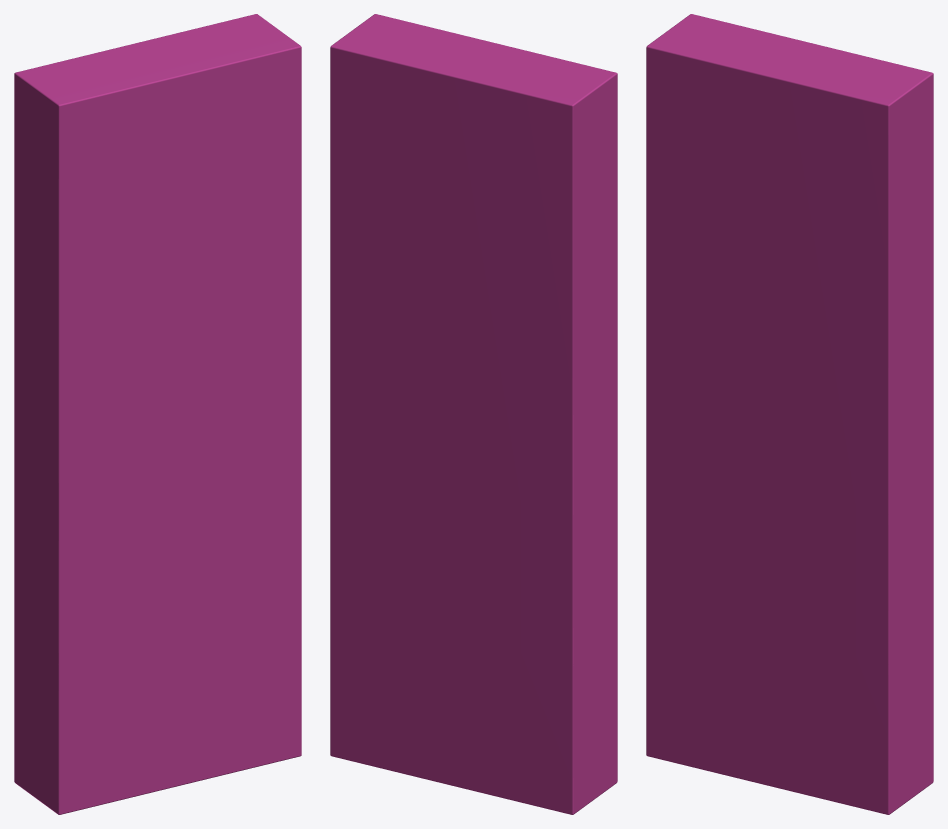
File: StructureReceptionWallPartition_01_Mesh.fbx
3 renders of one model, left to right at view 1: azimuth 30°, elevation 25°; view 2: azimuth 150°, elevation 25°; view 3: azimuth 330°, elevation 25°, orthographic.
Visible parts, largest first — view 1: StructureReceptionWallPartition_01; view 2: StructureReceptionWallPartition_01; view 3: StructureReceptionWallPartition_01.
Part boxes in pixels (<box>): StructureReceptionWallPartition_01: <box>14,14,301,814</box>; StructureReceptionWallPartition_01: <box>330,14,617,814</box>; StructureReceptionWallPartition_01: <box>646,14,933,814</box>.
Bounding box in the file's own units: 186 × 518 × 59.59.
